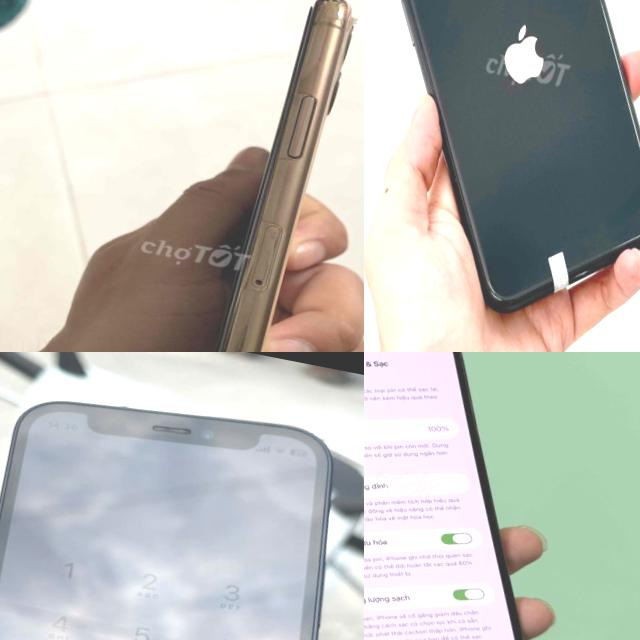gen_11: (364, 0, 640, 338), (147, 0, 364, 352)
gen_12_13: (0, 369, 364, 640)
gen_14: (364, 352, 603, 640)
